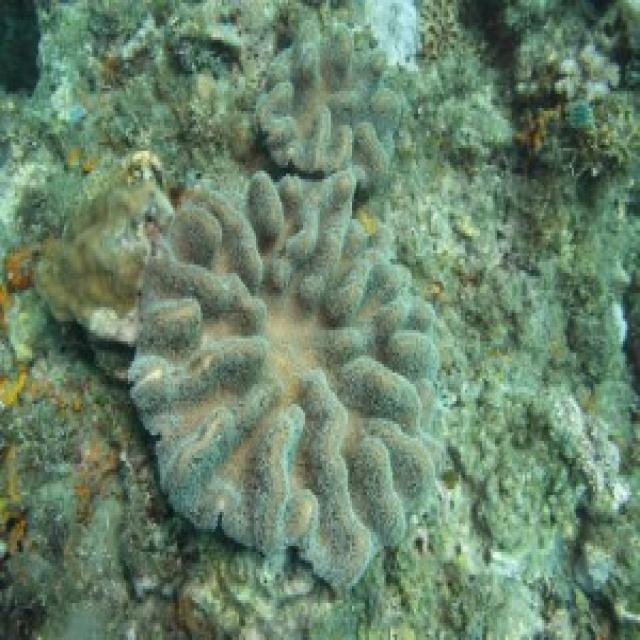Coral: (125, 162, 449, 567), (247, 8, 412, 184)
